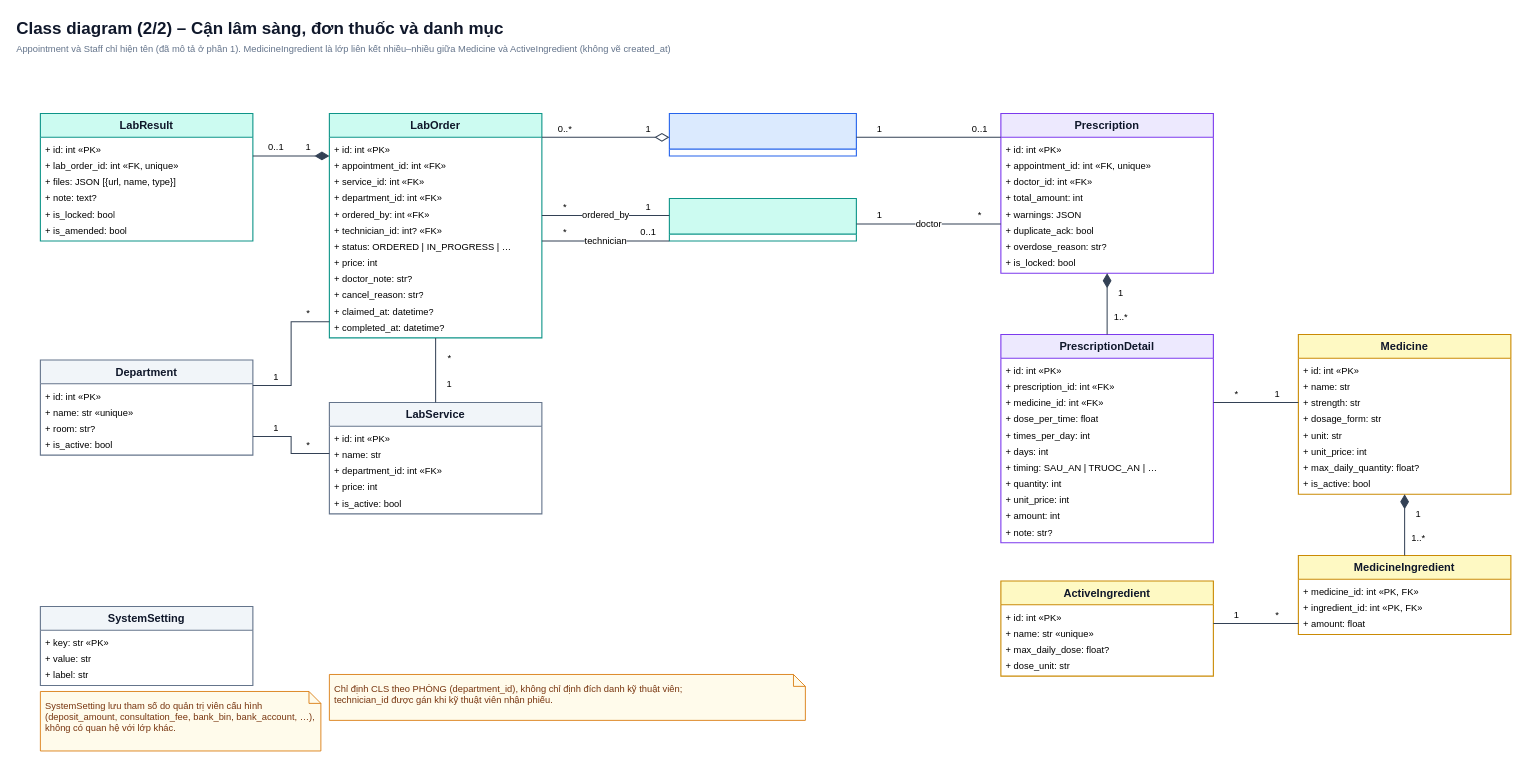
The diagram is 1526 pixels wide and 766 high, and some of its shapes have lost their labels. Here are the shapes that lost their labels. From the top down, the centre of each, then its label:
At (x=762, y=134): "(xem phần 1) Appointment".
At (x=762, y=219): "(xem phần 1) Staff".
